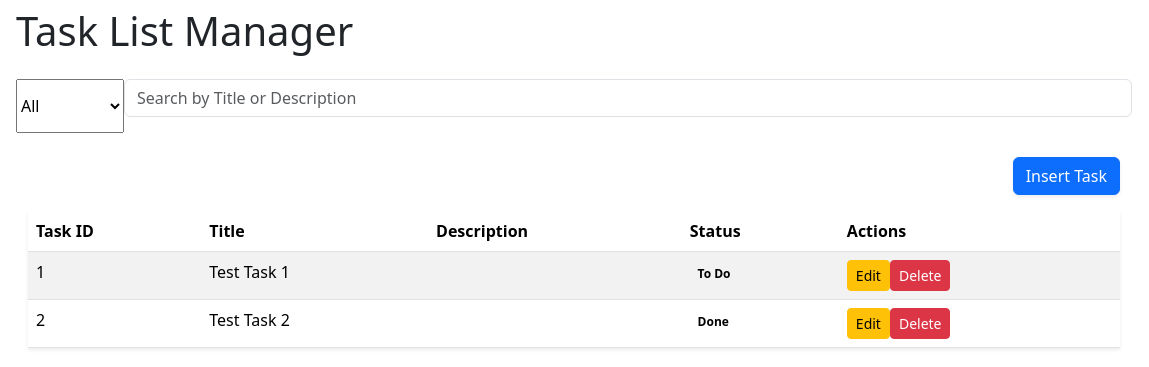
Test: App Component › can filter tasks
Expected: the text "Test Task 1" is shown, top-left (201, 252), bottom-right (428, 300)
# Set filter to "Done"
Select "Done" in the dropdown: point(70, 106) top-left (16, 79), bottom-right (124, 133)
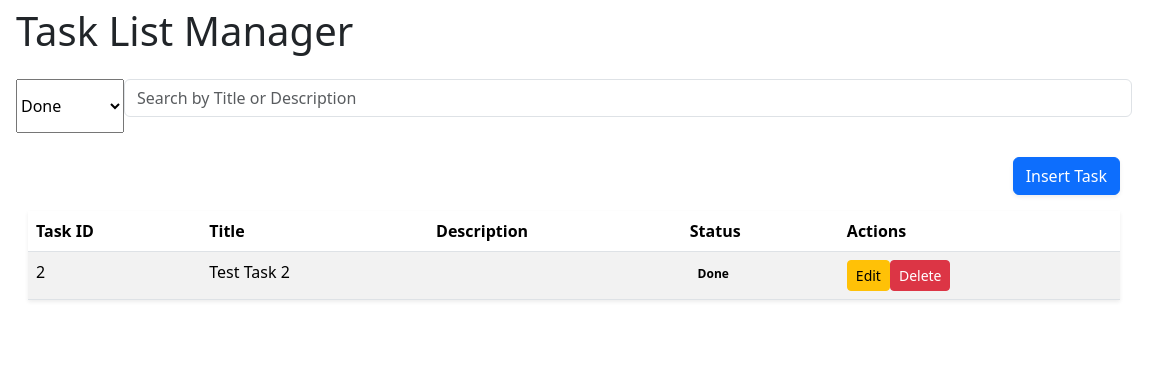
Expected: the text "Test Task 2" is shown, top-left (201, 252), bottom-right (428, 300)
Now the text "Test Task 1" is gone
